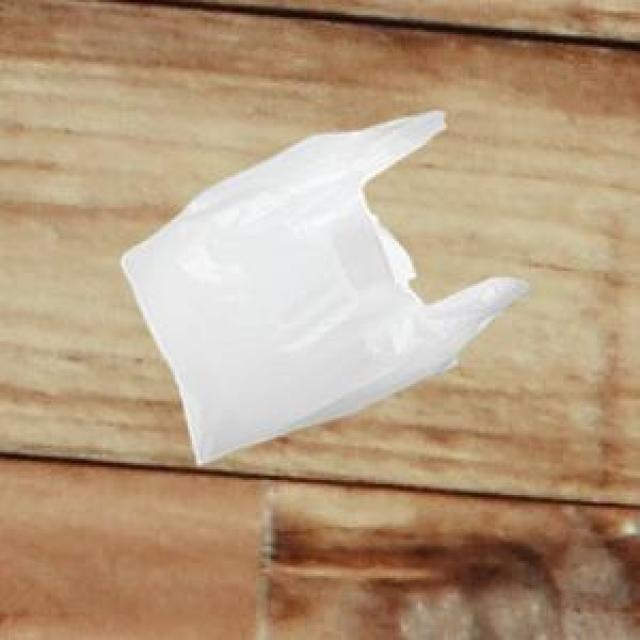waste: (122, 111, 528, 463)
